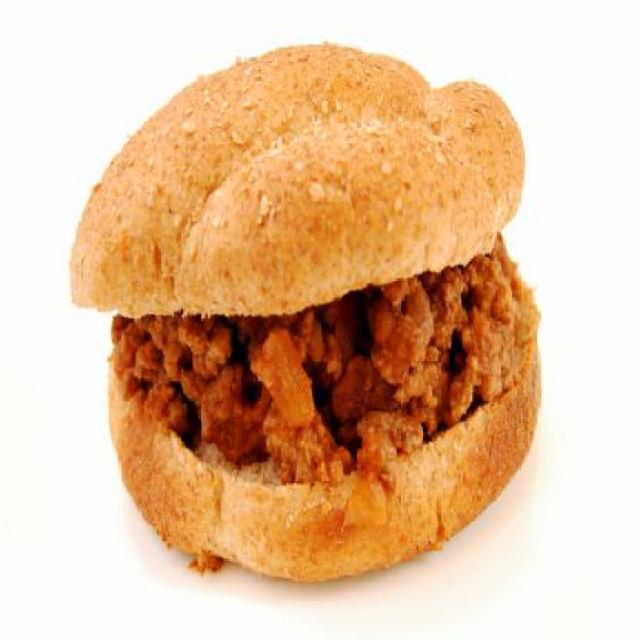Sandwich: (67, 37, 541, 586)
